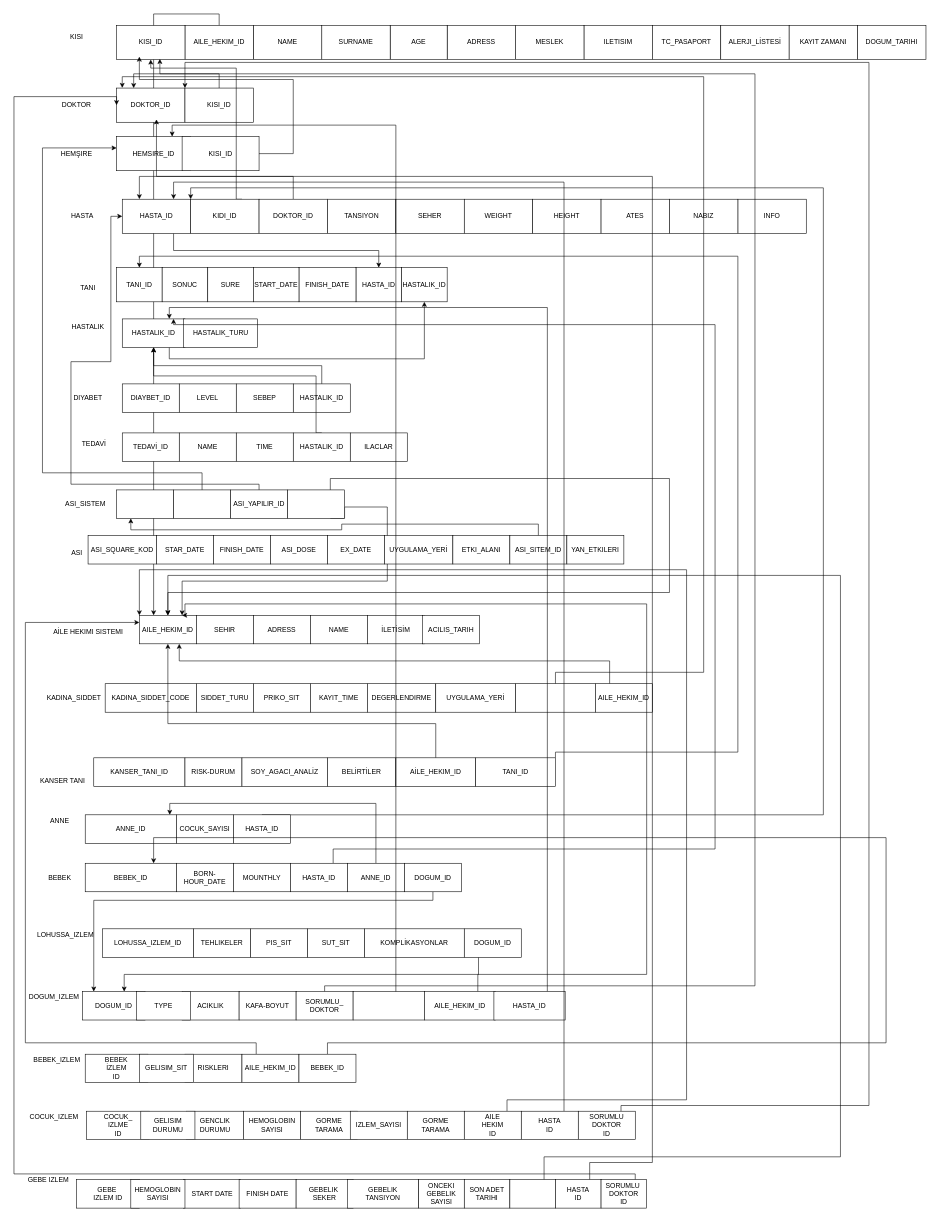
The diagram is 936 pixels wide and 1218 high, and some of its shapes have lost their labels. Each missing label, with the box of its shape:
AILE_HEKIMI_ID: (287, 489, 345, 518)
AİLE HEKIM ID: (509, 1179, 555, 1208)
ASI_SISTEM_ID: (116, 489, 174, 518)
ASI_YAPAN_ID: (173, 489, 231, 518)
MUAYENE_DOKTOR: (515, 683, 595, 712)
SORUMLU HEMSİRE: (353, 991, 424, 1020)
